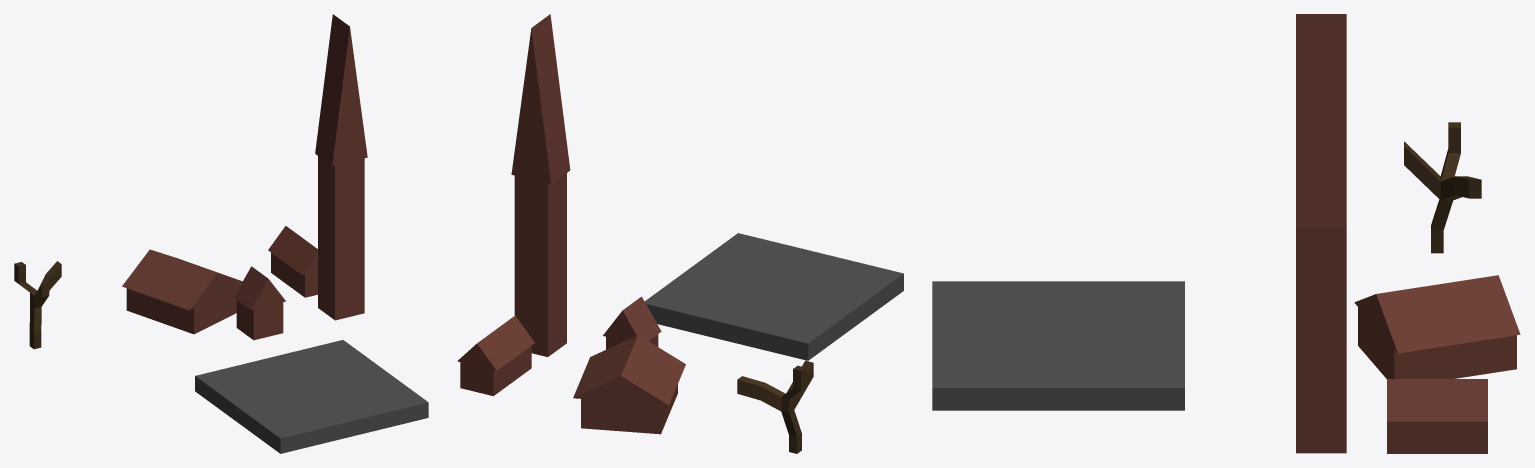
File: mara_houses.glb
3 renders of one model, left to right at view 1: azimuth 30°, elevation 25°; view 2: azimuth 150°, elevation 25°; view 3: azimuth 270°, elevation 25°, orthographic. The views are drawn at different scales.
Visible parts, largest first — view 1: graveyard, mill, big-home-rotated, bigger home, small-home, tree; view 2: graveyard, mill, big-home-rotated, small-home, tree, bigger home; view 3: graveyard, mill, big-home-rotated, small-home, tree.
Part boxes in pixels (x1,y1,x2,y2): graveyard: (195,340,428,453); mill: (315,14,367,320); big-home-rotated: (122,249,242,334); bigger home: (234,266,285,340); small-home: (268,226,317,297); tree: (14,261,61,349); graveyard: (644,233,903,360); mill: (511,14,570,356); big-home-rotated: (573,335,685,434); small-home: (457,315,534,396); tree: (737,360,813,453); bigger home: (603,296,661,349); graveyard: (932,281,1184,410); mill: (1296,14,1346,453); big-home-rotated: (1354,275,1520,378); small-home: (1387,379,1487,453); tree: (1404,122,1481,253).
Bounding box in the file's own units: 40.28 × 37.48 × 46.59.
